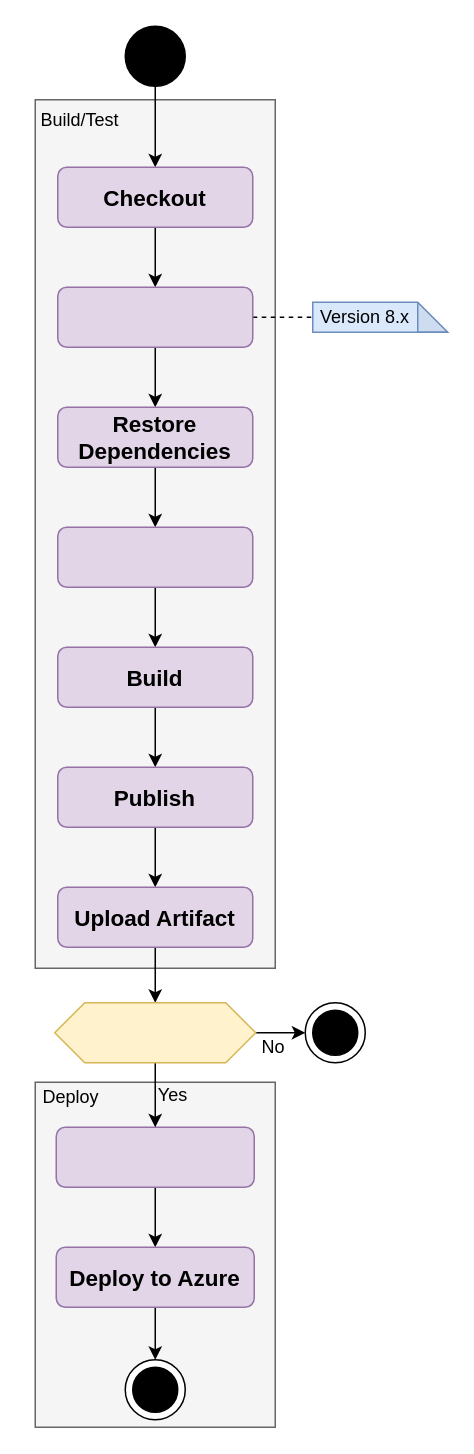
This 474x1454 diagram has some shape labels left out. The centre of each missing label's shape, as x and y in pixels:
Download Artifact: point 154,1156
Setup .NET: point 154,316
Successful: point 154,1032
Test: point 154,556
